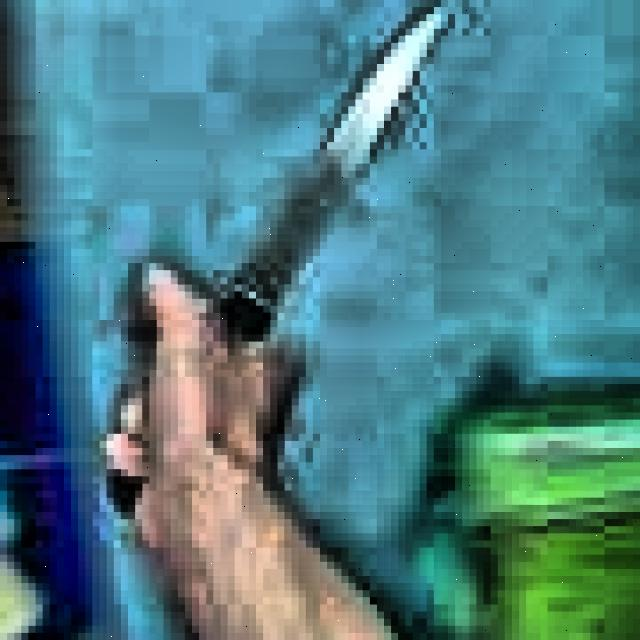knife: (112, 10, 444, 517)
